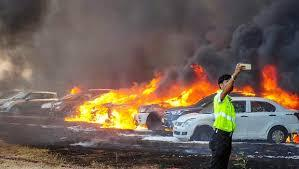fire: (77, 81, 299, 144)
smoke: (223, 6, 292, 67)
